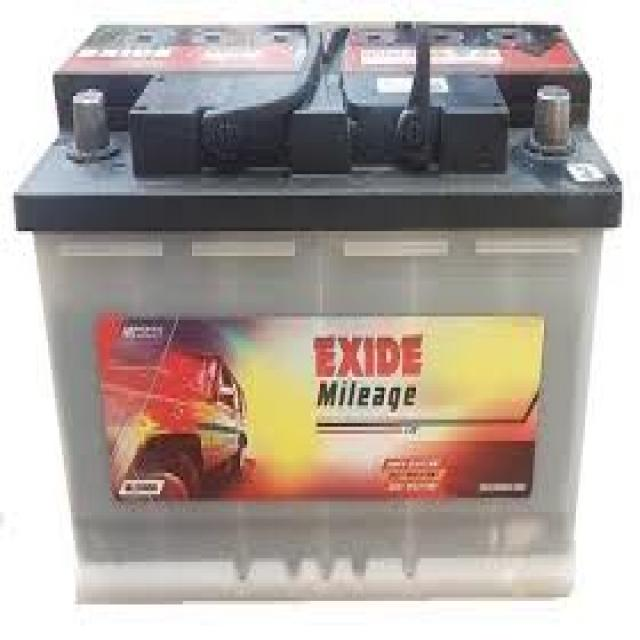non-organic waste: (16, 22, 622, 598)
